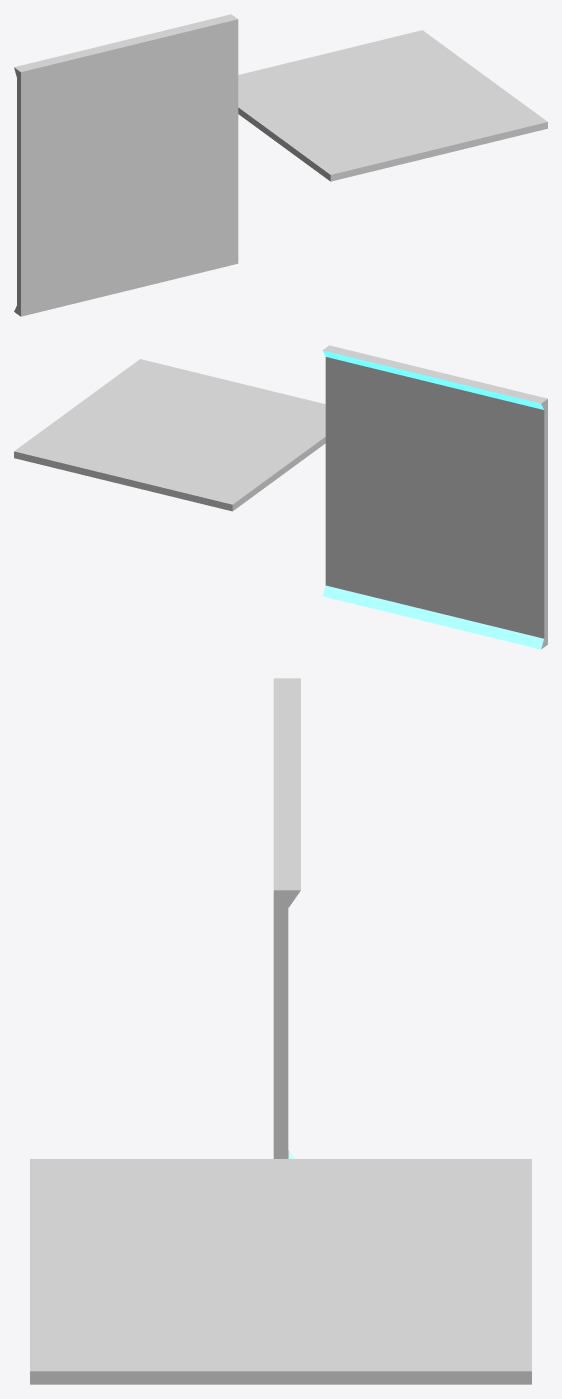
File: LaborKid.fbx
3 renders of one model, top to bottom at view 1: azimuth 30°, elevation 25°; view 2: azimuth 150°, elevation 25°; view 3: azimuth 270°, elevation 25°, orthographic. The views are drawn at different scales.
Visible parts, largest first — view 1: Cube, Boden; view 2: Cube, Boden; view 3: Boden, Cube.
Part boxes in pixels (x1,y1,x2,y2): Cube: (14, 14, 238, 316); Boden: (238, 30, 547, 181); Cube: (322, 345, 547, 649); Boden: (14, 359, 325, 511); Boden: (30, 1159, 531, 1384); Cube: (273, 678, 300, 1158).
Size of the model in its own units: 1716 by 860 by 800.
